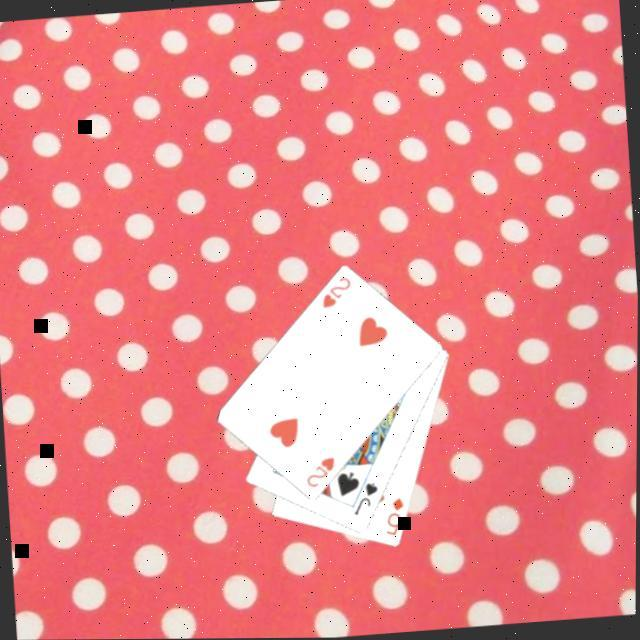2H: (316, 273, 354, 311), (300, 454, 338, 489)
5D: (380, 492, 408, 538)
JS: (348, 478, 382, 518)
